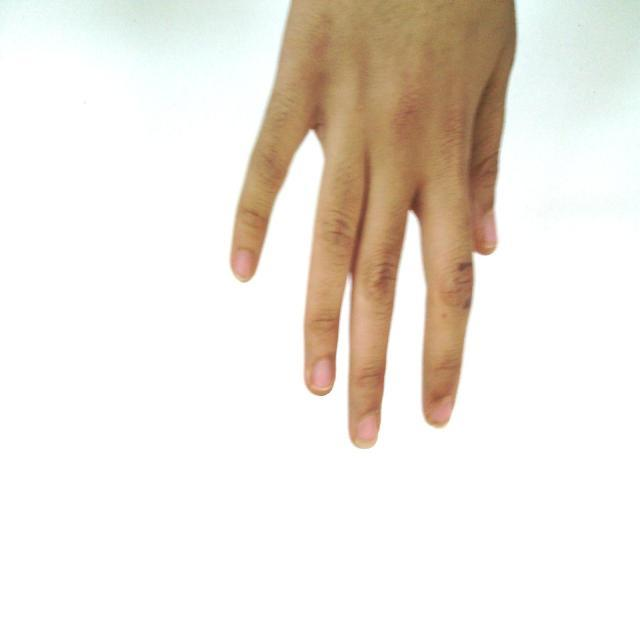Fingernail: (355, 417, 377, 447), (312, 358, 332, 391), (429, 399, 452, 427), (482, 212, 499, 248), (235, 251, 254, 281)
